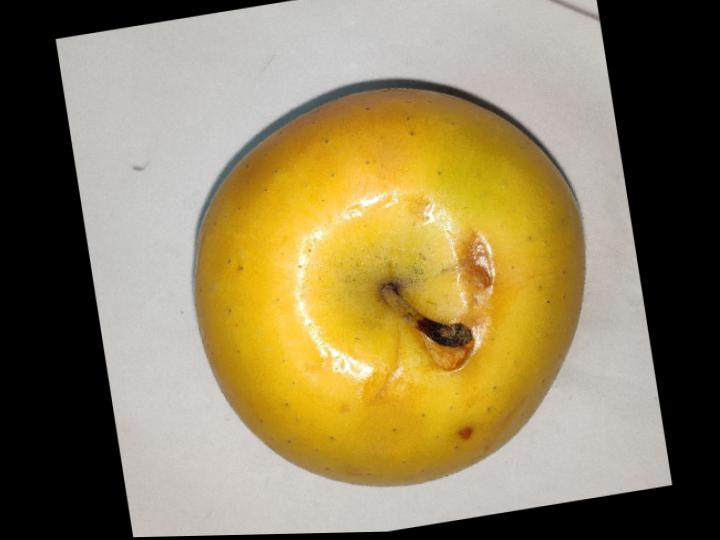apple: (195, 87, 584, 485)
surface_damage: (459, 236, 494, 292), (421, 332, 472, 369)
